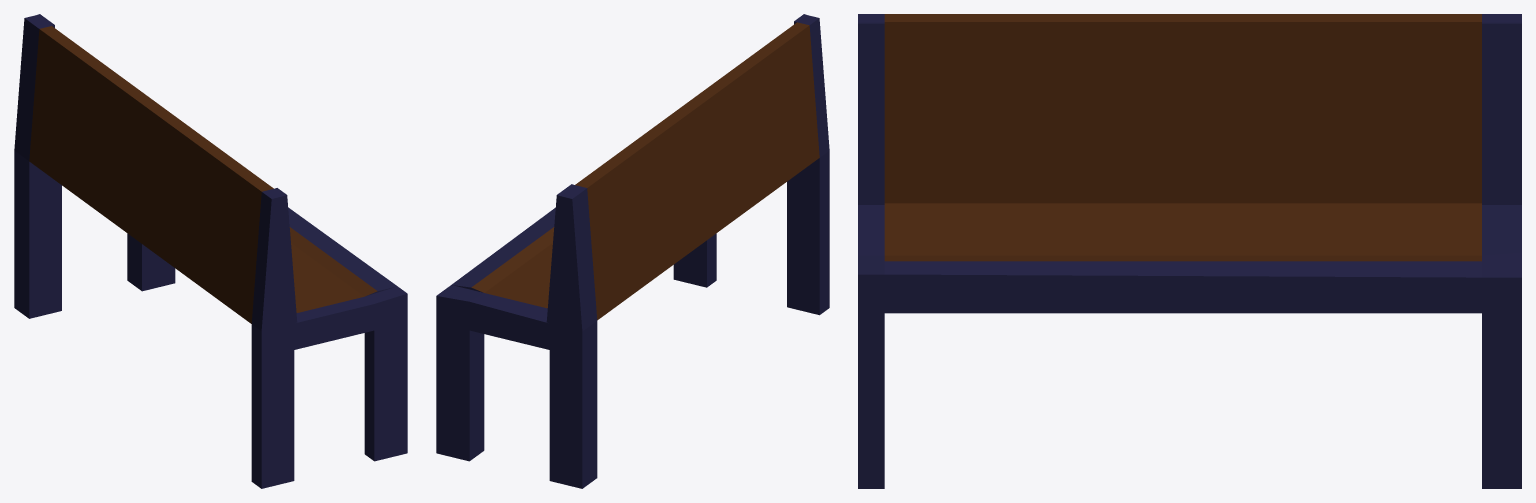
The model's file is banc.fbx.
3 views of the same model, side by side, from view 1: azimuth 30°, elevation 25°; view 2: azimuth 150°, elevation 25°; view 3: azimuth 270°, elevation 25° (orthographic). The views are drawn at different scales.
Parts seen in each view (by area): view 1: Cube; view 2: Cube; view 3: Cube.
Boxes of the visible parts, x1,y1,x2,y2 form: Cube: (14, 14, 407, 488); Cube: (436, 14, 829, 488); Cube: (858, 14, 1521, 488).
Size of the model in its own units: 102 by 192 by 299.
